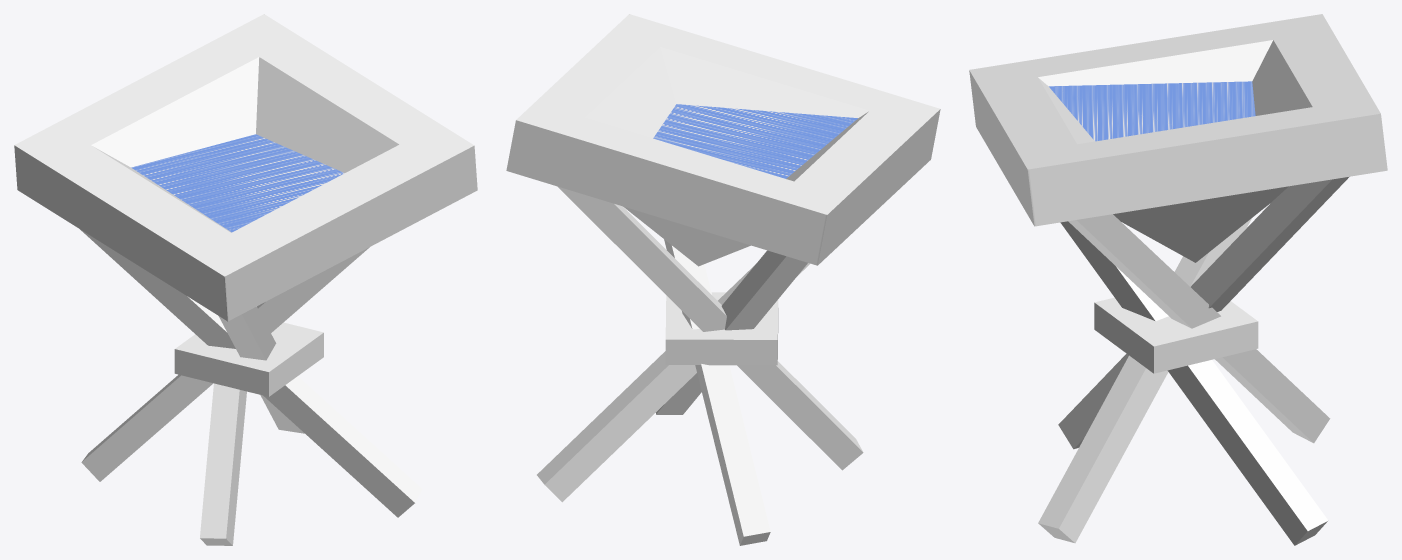
Rendered from makeshift_resonator.obj.
The picture shows the model from 3 angles, left to right: view 1: azimuth 30°, elevation 25°; view 2: azimuth 150°, elevation 25°; view 3: azimuth 270°, elevation 25°; orthographic projection. The views are drawn at different scales.
Parts seen in each view (by area): view 1: Bowl_Cube, Sticks_Cube.005, Waterplane_Plane, String_Cube.001; view 2: Bowl_Cube, Sticks_Cube.005, Waterplane_Plane, String_Cube.001; view 3: Bowl_Cube, Sticks_Cube.005, Waterplane_Plane, String_Cube.001.
Boxes of the visible parts, box(x1,y1,x2,y2) form: Bowl_Cube: box(14, 14, 477, 321); Sticks_Cube.005: box(80, 229, 422, 545); Waterplane_Plane: box(131, 134, 344, 232); String_Cube.001: box(174, 322, 323, 396); Bowl_Cube: box(506, 14, 940, 266); Sticks_Cube.005: box(537, 186, 863, 545); Waterplane_Plane: box(653, 104, 857, 178); String_Cube.001: box(665, 292, 778, 365); Bowl_Cube: box(969, 14, 1387, 262); Sticks_Cube.005: box(1038, 176, 1349, 545); Waterplane_Plane: box(1049, 81, 1255, 141); String_Cube.001: box(1094, 297, 1258, 373).
Size of the model in its own units: 0.8805 by 0.9914 by 0.871.
